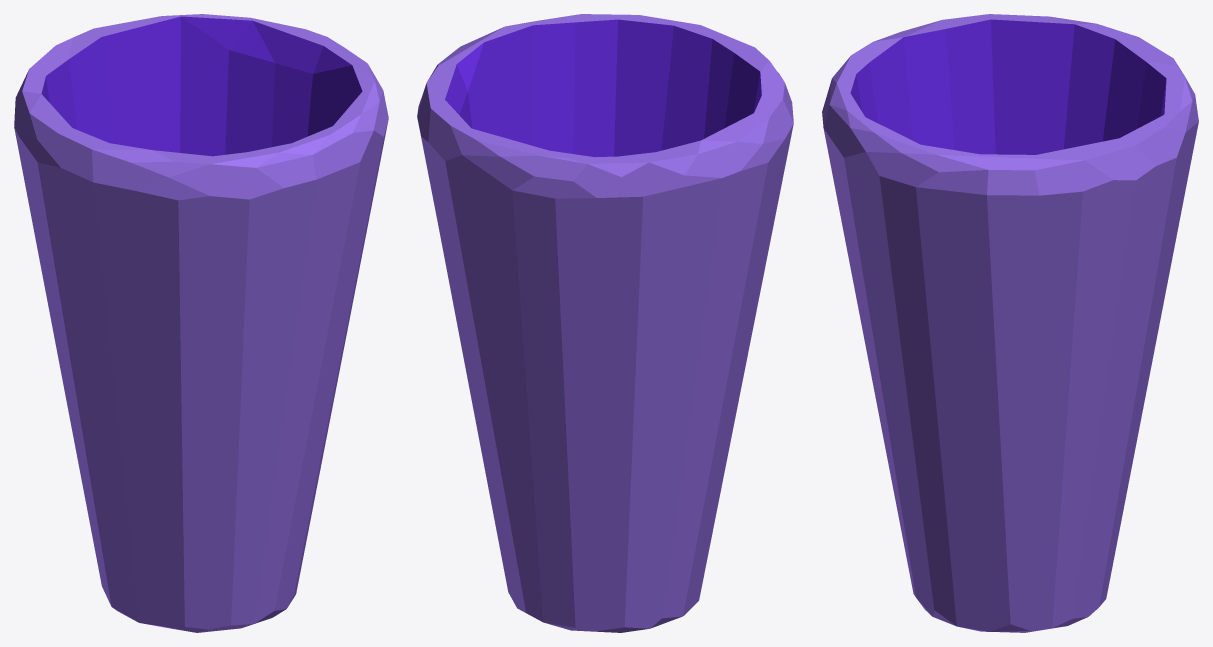
File: DrinkingGlass06.fbx
3 renders of one model, left to right at view 1: azimuth 30°, elevation 25°; view 2: azimuth 150°, elevation 25°; view 3: azimuth 270°, elevation 25°, orthographic.
Visible parts, largest first — view 1: DrinkingGlass06LowPoly; view 2: DrinkingGlass06LowPoly; view 3: DrinkingGlass06LowPoly.
Part boxes in pixels (left/top/right/bottom): DrinkingGlass06LowPoly: left=14, top=14, right=388, bottom=632; DrinkingGlass06LowPoly: left=417, top=14, right=793, bottom=632; DrinkingGlass06LowPoly: left=822, top=14, right=1198, bottom=632.
Size of the model in its own units: 9.78 by 14.6 by 9.79.
